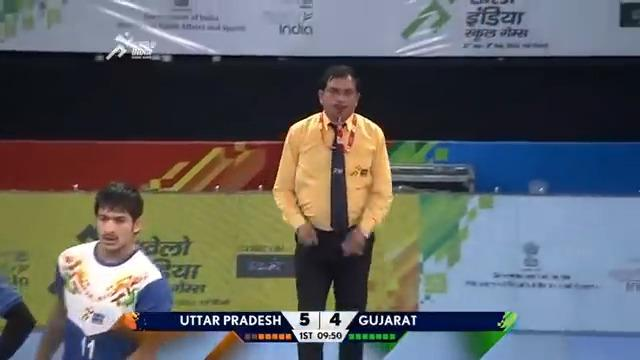Player: (60, 188, 161, 344)
referee: (271, 63, 394, 358)
